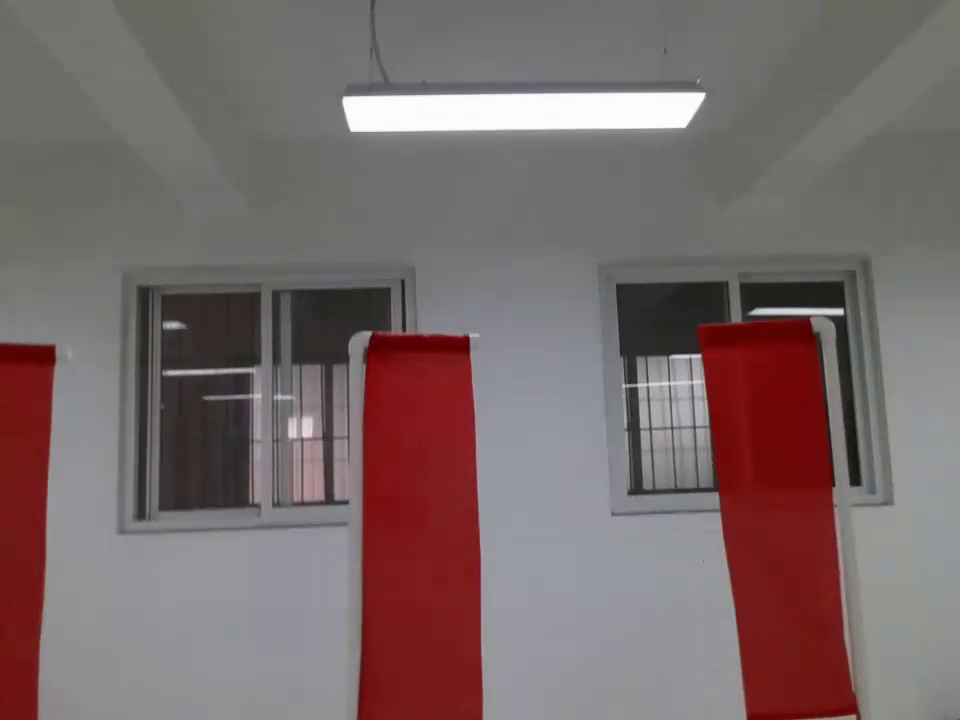qi: (681, 316, 881, 720), (337, 326, 495, 720), (2, 322, 76, 720)
